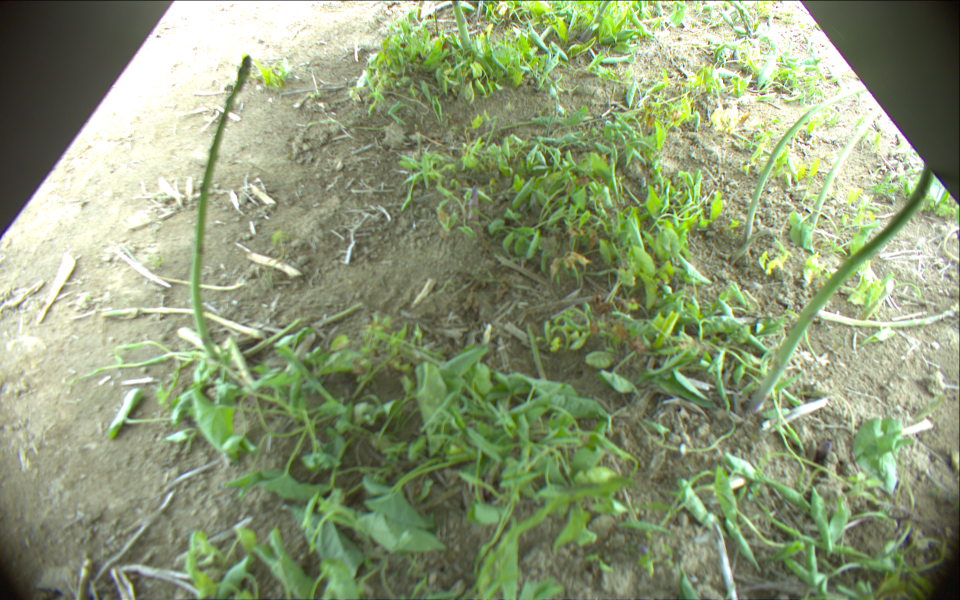aspa: (744, 158, 934, 417), (742, 79, 872, 243), (194, 54, 253, 372), (805, 106, 885, 237), (817, 299, 960, 329), (583, 1, 609, 43), (449, 1, 471, 48), (724, 1, 754, 35), (467, 185, 479, 222)
